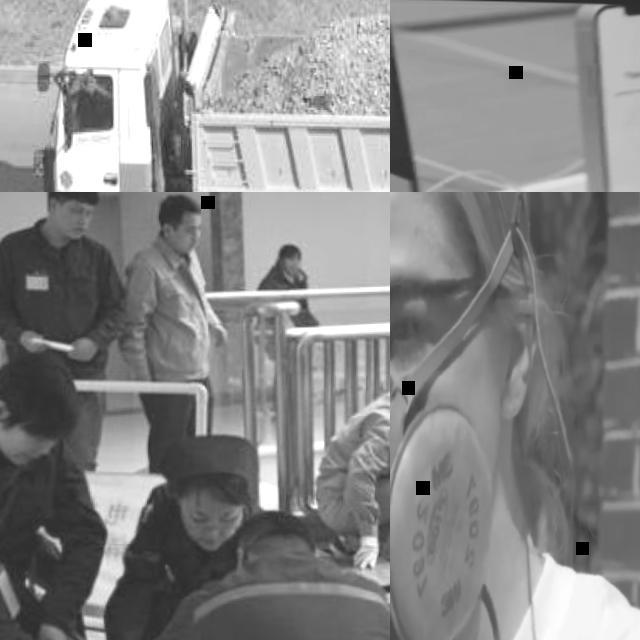Robbery: (387, 189, 623, 640), (1, 340, 133, 640), (176, 507, 411, 640), (0, 182, 118, 425), (126, 432, 249, 640), (123, 188, 220, 446), (301, 372, 395, 557), (259, 233, 310, 358)
